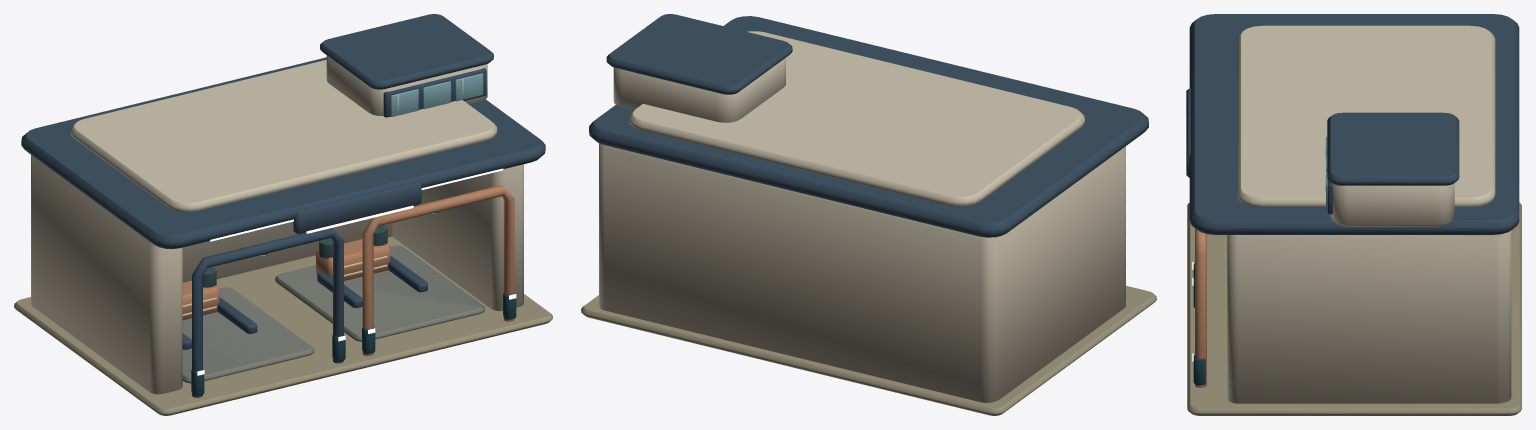
Rendered from luxury_tuning.glb.
The picture shows the model from 3 angles, left to right: view 1: azimuth 30°, elevation 25°; view 2: azimuth 150°, elevation 25°; view 3: azimuth 270°, elevation 25°; orthographic projection. The views are drawn at different scales.
Parts seen in each view (by area): view 1: LuxuryTuning; view 2: LuxuryTuning; view 3: LuxuryTuning.
Boxes of the visible parts, x1,y1,x2,y2 form: LuxuryTuning: (14,14,552,415); LuxuryTuning: (581,14,1156,415); LuxuryTuning: (1185,14,1521,415).
Size of the model in its own units: 9.61 by 5.05 by 6.36.
